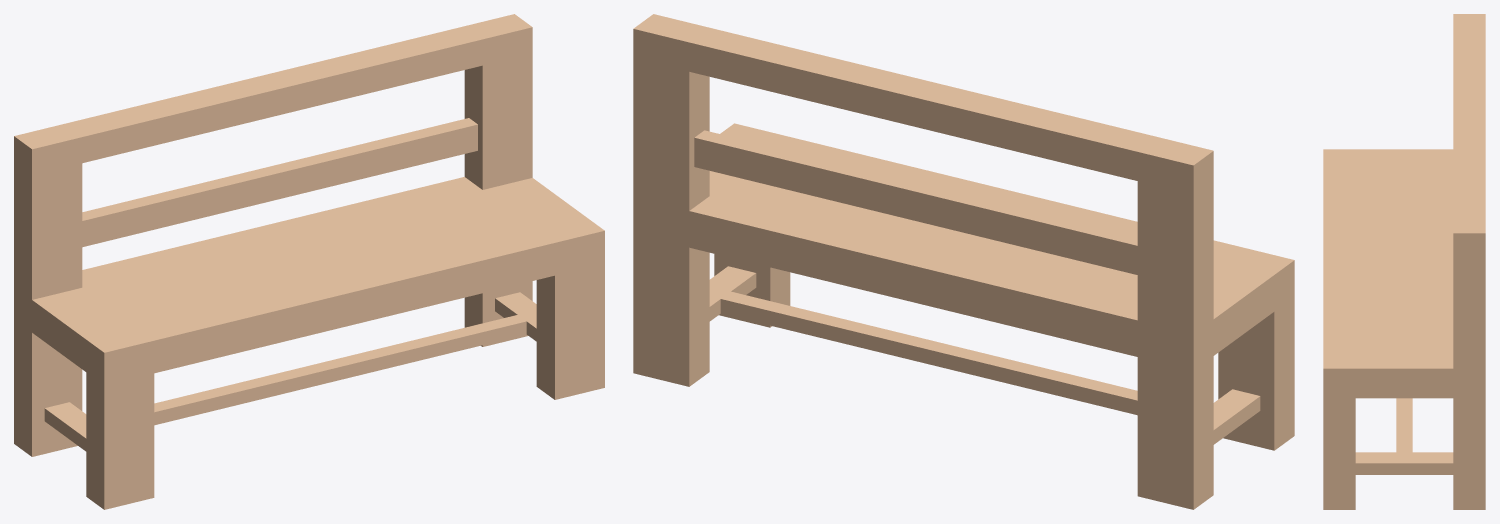
The model's file is camp-bench-v1.glb.
The picture shows the model from 3 angles, left to right: view 1: azimuth 30°, elevation 25°; view 2: azimuth 150°, elevation 25°; view 3: azimuth 270°, elevation 25°; orthographic projection. The views are drawn at different scales.
Visible parts, largest first — view 1: camp_bench_v1_0; view 2: camp_bench_v1_0; view 3: camp_bench_v1_0.
Part boxes in pixels (x1,y1,x2,y2): camp_bench_v1_0: [14, 14, 604, 509]; camp_bench_v1_0: [633, 14, 1294, 509]; camp_bench_v1_0: [1323, 14, 1485, 509].
Size of the model in its own units: 1.6 by 0.94 by 0.5.
